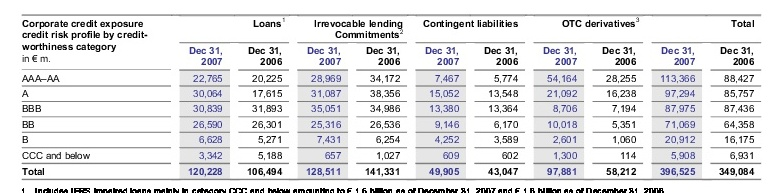table: (0, 0, 780, 193)
